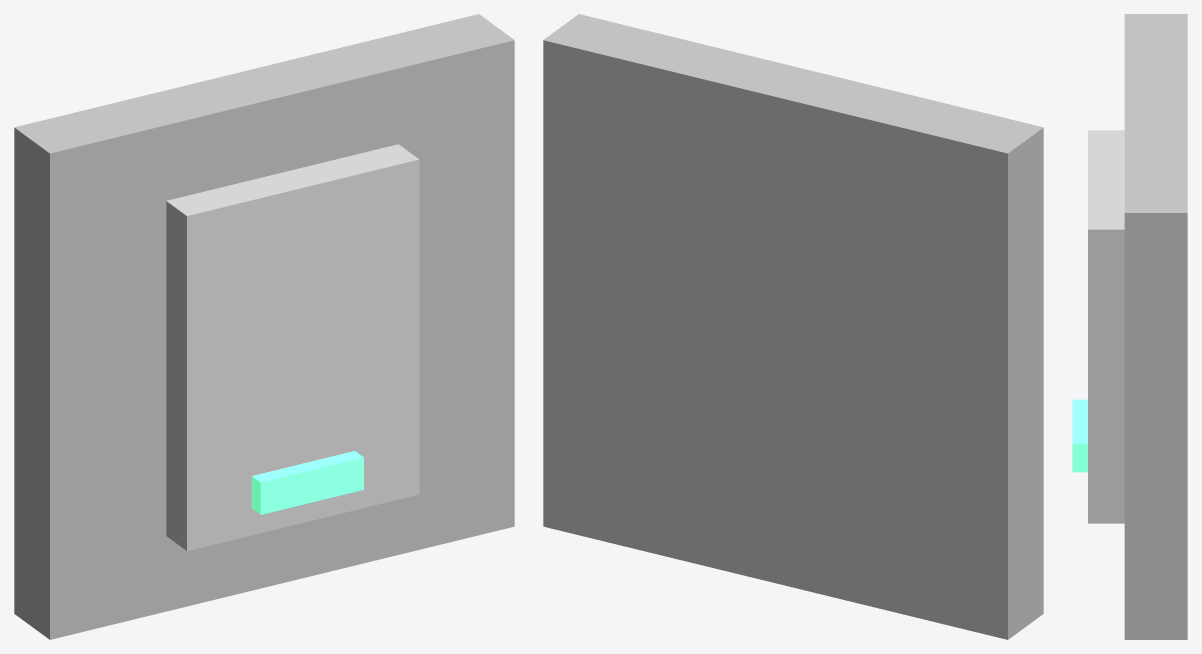
The model's file is interruptor.glb.
3 views of the same model, side by side, from view 1: azimuth 30°, elevation 25°; view 2: azimuth 150°, elevation 25°; view 3: azimuth 270°, elevation 25° (orthographic). The views are drawn at different scales.
Parts seen in each view (by area): view 1: Interruptor, Tecla, Marc-interruptor; view 2: Interruptor; view 3: Interruptor, Tecla, Marc-interruptor.
Part boxes in pixels (x1,y1,x2,y2): Interruptor: [14, 14, 514, 639]; Tecla: [166, 144, 419, 550]; Marc-interruptor: [251, 451, 363, 514]; Interruptor: [543, 14, 1043, 639]; Interruptor: [1124, 14, 1187, 639]; Tecla: [1088, 130, 1124, 523]; Marc-interruptor: [1072, 399, 1087, 472].
Size of the model in its own units: 0.09 by 0.09 by 0.022.
